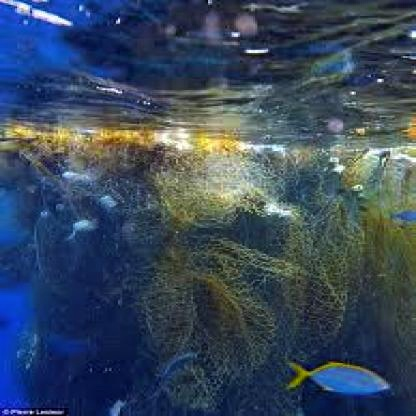net: (73, 150, 386, 404)
